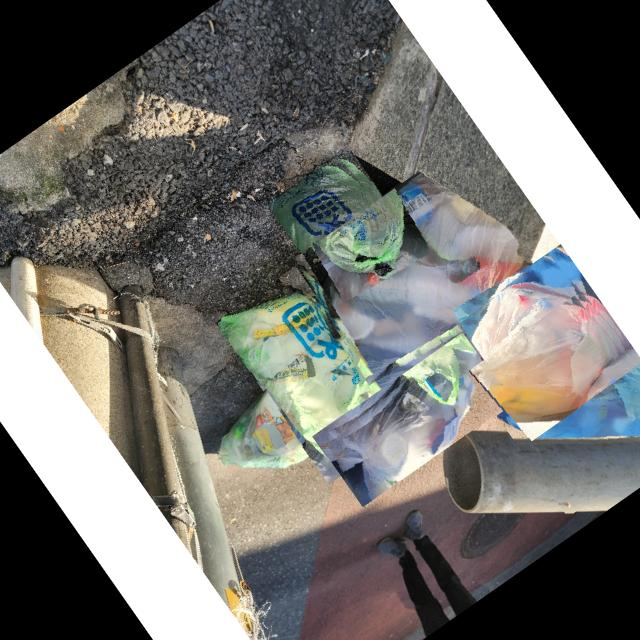general_trashbag: (218, 292, 389, 467), (267, 164, 398, 290), (219, 388, 307, 468)
other_trashbag: (322, 175, 522, 378), (326, 349, 481, 500), (471, 280, 627, 421), (465, 350, 640, 436)
